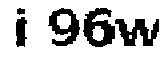6: (82, 7, 115, 49)
9: (46, 4, 80, 51)
i: (6, 4, 34, 52)
w: (114, 17, 160, 51)
